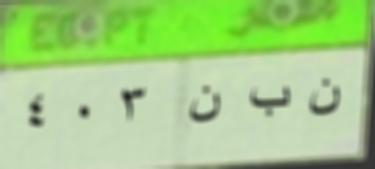0: (70, 100, 100, 128)
3: (114, 86, 151, 127)
4: (20, 91, 53, 134)
baa: (250, 84, 293, 119)
noon: (309, 74, 345, 124), (188, 84, 226, 129)
